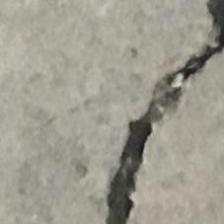Crack: (79, 1, 224, 224)
